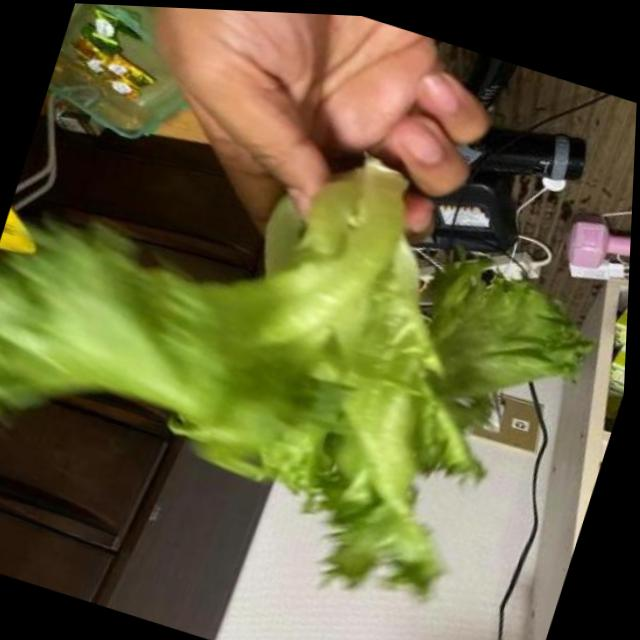Mature: (0, 158, 589, 597)
